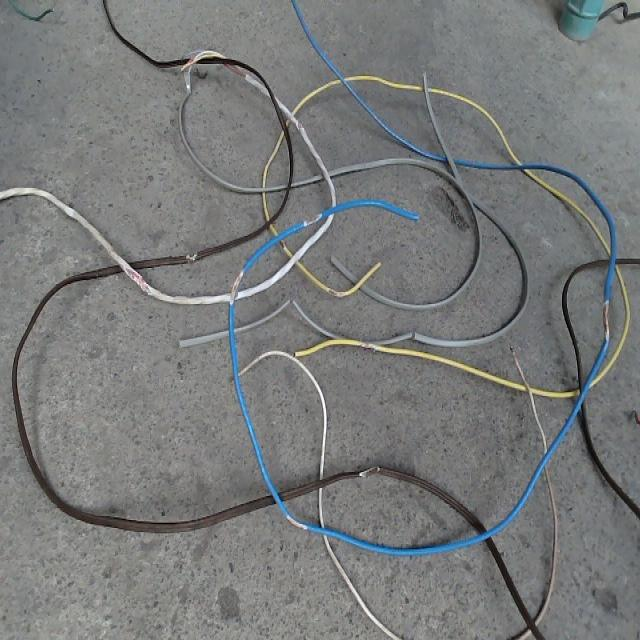-: (124, 264, 153, 295), (228, 269, 243, 304), (284, 512, 308, 529), (301, 210, 322, 227), (357, 464, 380, 476), (326, 286, 342, 298), (360, 340, 376, 349), (186, 250, 197, 262)
